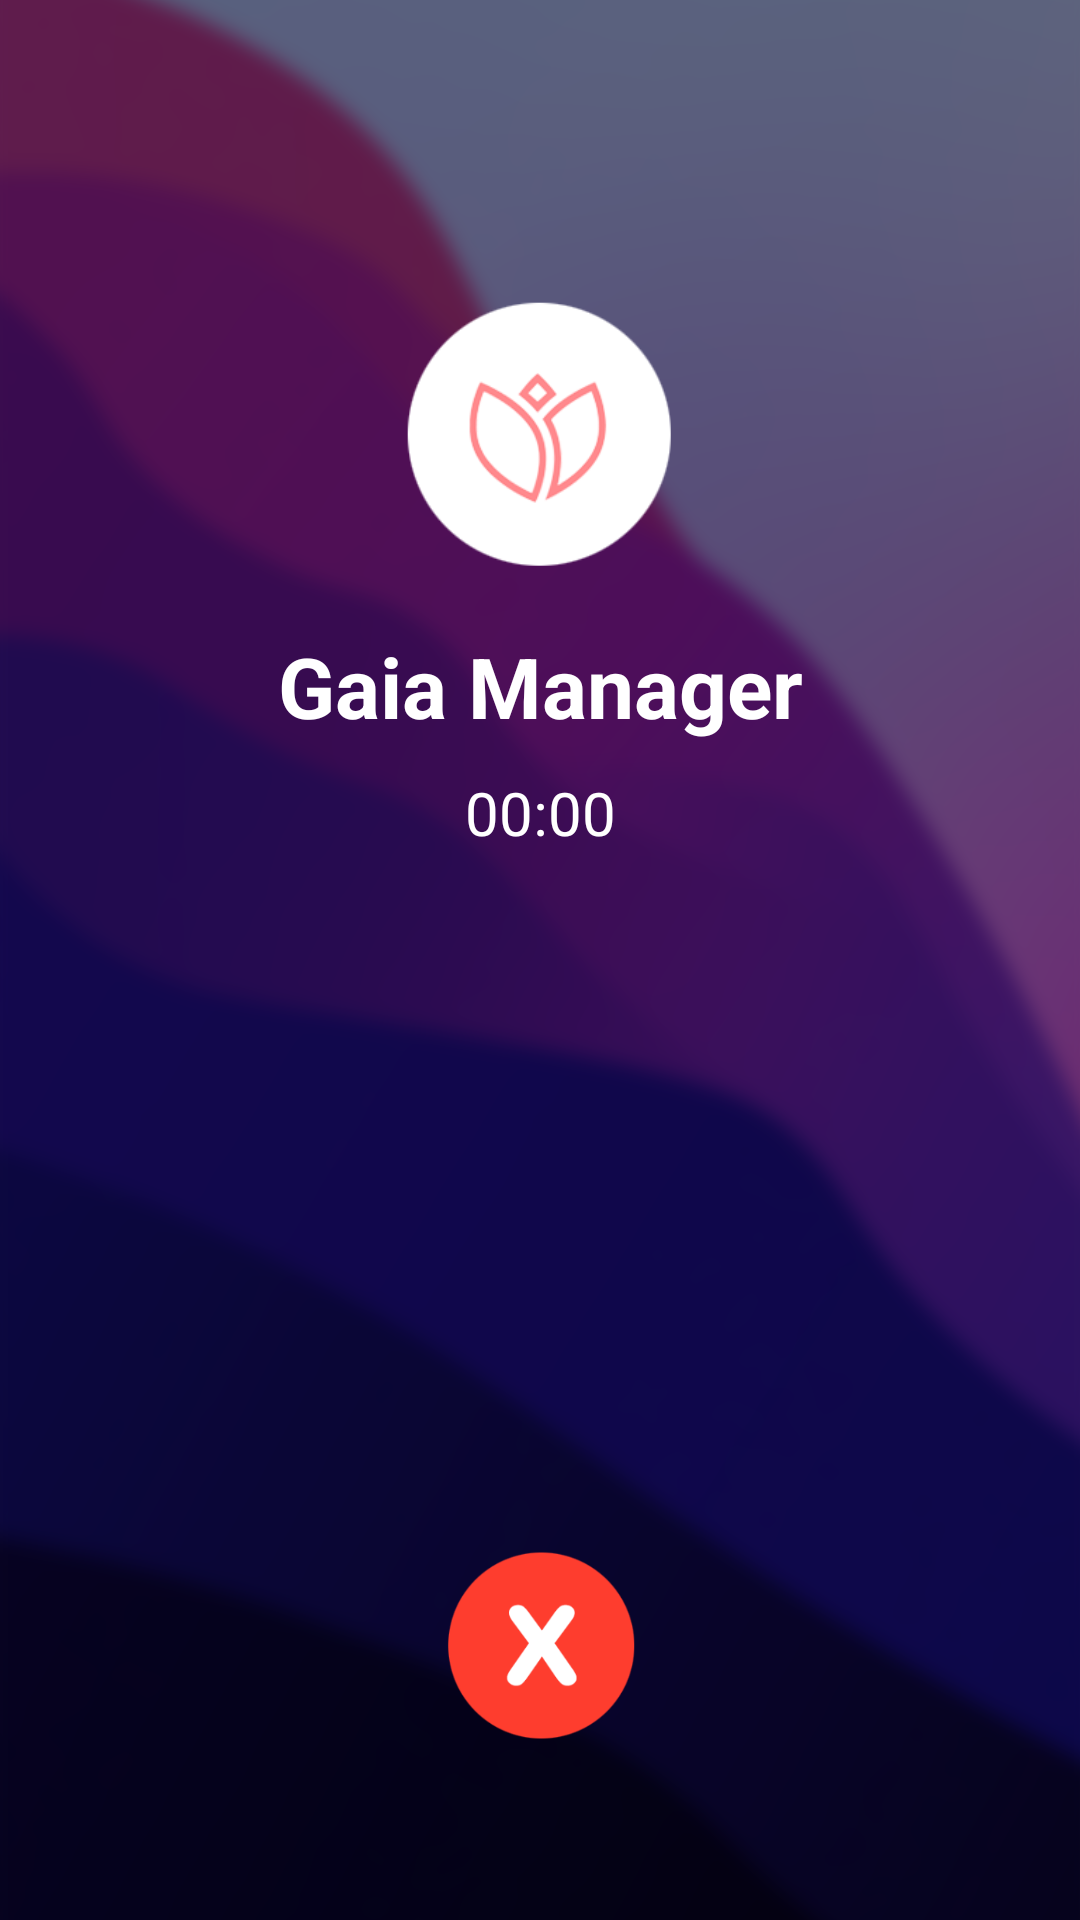

Screen size 1080*1920. Icon name, then its center in pixels as (x=x, y=y):
cancel call: (x=541, y=1645)
